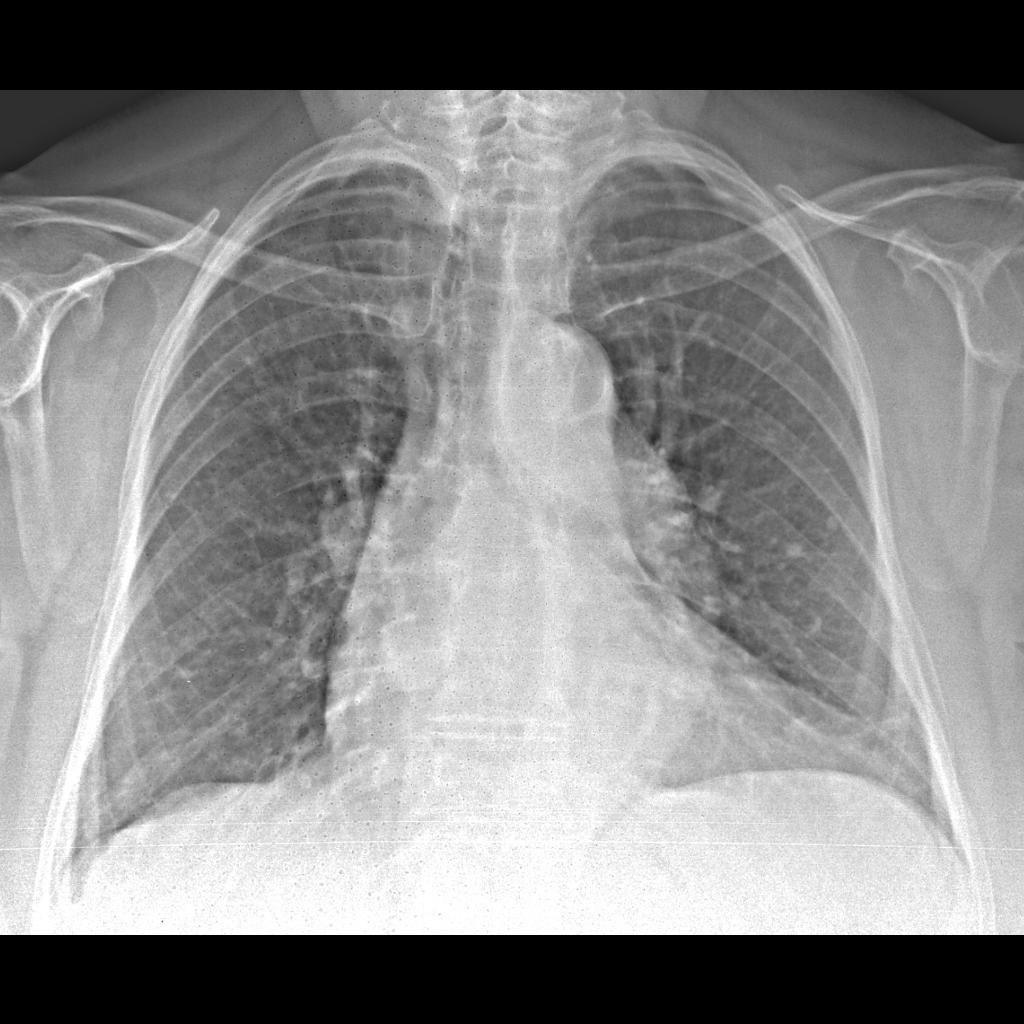Nodule: (371, 613, 460, 696)
